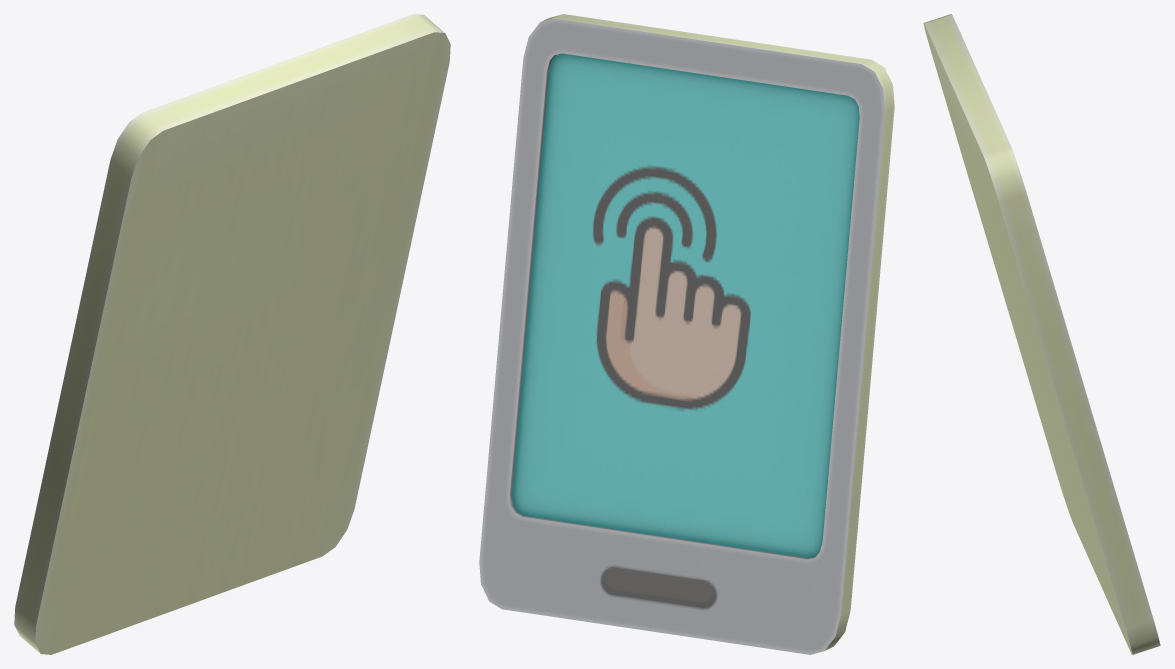
File: Inidio.fbx
3 renders of one model, left to right at view 1: azimuth 30°, elevation 25°; view 2: azimuth 150°, elevation 25°; view 3: azimuth 270°, elevation 25°, orthographic. The views are drawn at different scales.
Parts seen in each view (by area): view 1: In_model; view 2: In_model; view 3: In_model.
Part boxes in pixels (x1,y1,x2,y2): In_model: (14, 14, 450, 654); In_model: (479, 14, 894, 654); In_model: (923, 14, 1160, 654).
Bounding box in the file's own units: 36.01 × 59.71 × 86.76.
Materials: 1 (1 with a texture image).
